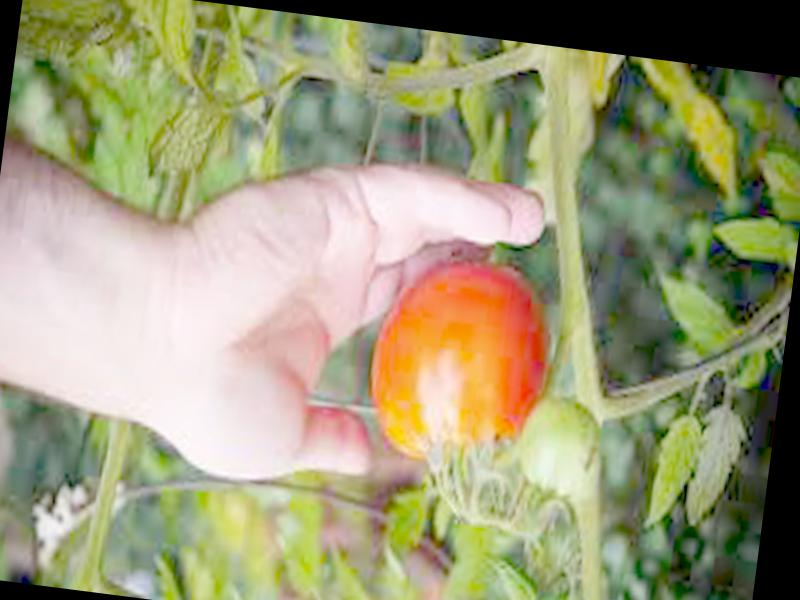Tomato: (360, 251, 564, 479)
